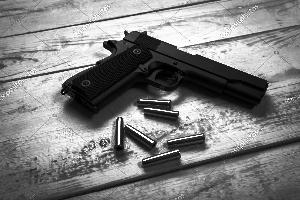handgun: (59, 22, 263, 138)
